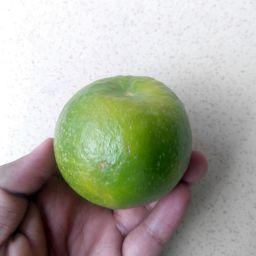Unripe: (54, 78, 193, 209)
